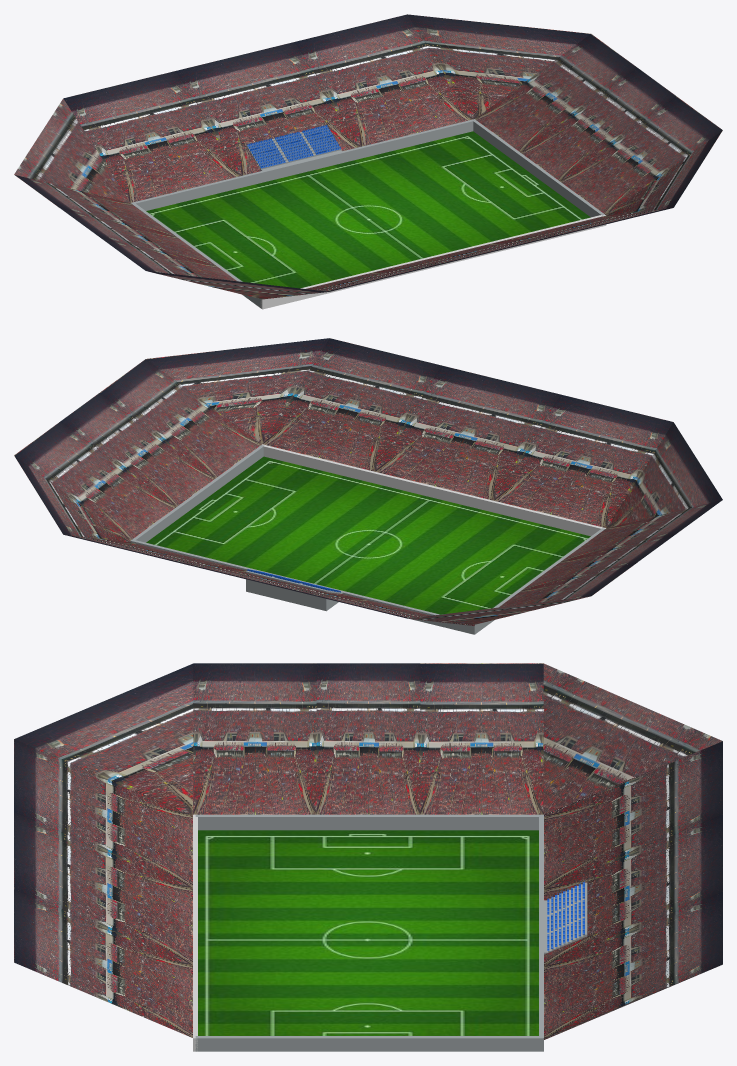
File: スタジアムテクスチャ貼り付けAI生成画像.fbx
3 renders of one model, top to bottom at view 1: azimuth 30°, elevation 25°; view 2: azimuth 150°, elevation 25°; view 3: azimuth 270°, elevation 25°, orthographic. The views are drawn at different scales.
Parts seen in each view (by area): view 1: 平面, 平面.012, 平面.015, 平面.010, 平面.011, 平面.007, 平面.014, 立方体.003, 平面.013, 平面.002, 平面.004, 平面.005 (+10 smaller); view 2: 平面, 平面.003, 平面.009, 平面.001, 平面.012, 平面.002, 平面.011, 平面.007, 平面.006, 立方体.002, 平面.005, 平面.004 (+8 smaller); view 3: 平面, 平面.005, 平面.013, 平面.004, 平面.014, 平面.003, 平面.006, 平面.012, 平面.015, 平面.009, 平面.001, 平面.010 (+4 smaller).
Part boxes in pixels (x1,y1,x2,y2): 平面: (146,131,590,288); 平面.012: (295,14,637,152); 平面.015: (63,71,241,202); 平面.010: (176,42,360,175); 平面.011: (560,96,722,215); 平面.007: (521,68,676,181); 平面.014: (14,98,129,202); 立方体.003: (131,119,475,210); 平面.013: (15,175,175,236); 平面.002: (607,130,722,215); 平面.004: (61,208,215,265); 平面.005: (100,237,236,281); 平面: (146,456,590,614); 平面.003: (375,365,560,500); 平面.009: (262,338,441,471); 平面.001: (494,394,673,527); 平面.012: (14,421,241,569); 平面.002: (146,338,329,443); 平面.011: (100,359,261,477); 平面.007: (60,393,215,506); 平面.006: (606,422,722,528); 立方体.002: (262,444,605,536); 平面.005: (561,500,722,561); 平面.004: (521,534,675,590); 平面: (198,830,538,1035); 平面.005: (193,663,316,814); 平面.013: (420,663,543,814); 平面.004: (316,663,420,814); 平面.014: (543,663,722,816); 平面.003: (14,812,192,964); 平面.006: (14,663,193,814); 平面.012: (543,891,722,1039); 平面.015: (544,741,722,889); 平面.009: (14,889,192,1037); 平面.001: (14,739,192,887); 平面.010: (544,814,722,966).
Size of the model in its own units: 359 by 39.8 by 287.
